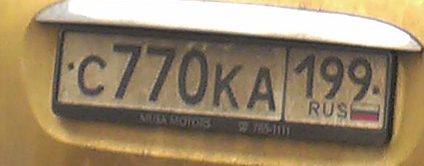character: (142, 39, 178, 105), (175, 46, 210, 109), (109, 41, 145, 101), (244, 62, 279, 114), (212, 60, 245, 112), (316, 49, 346, 105), (345, 51, 376, 102), (74, 53, 109, 97), (289, 52, 317, 101)
